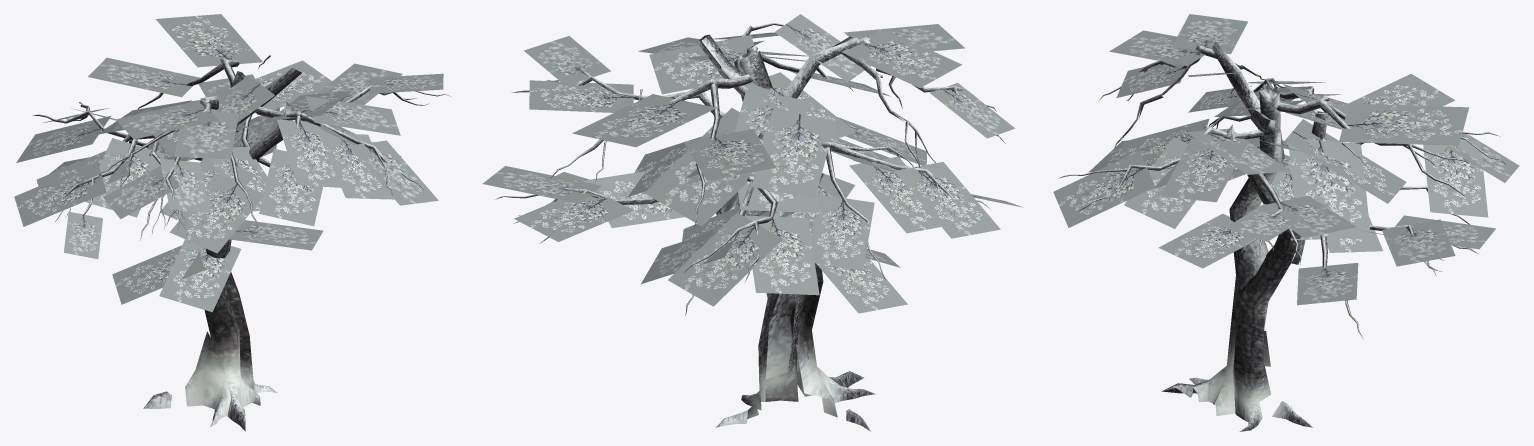
The model's file is S_Tree_White018_A.FBX.
The picture shows the model from 3 angles, left to right: view 1: azimuth 30°, elevation 25°; view 2: azimuth 150°, elevation 25°; view 3: azimuth 270°, elevation 25°; orthographic projection. The views are drawn at different scales.
Visible parts, largest first — view 1: S_Tree_White018_A; view 2: S_Tree_White018_A; view 3: S_Tree_White018_A.
Boxes of the visible parts, x1,y1,x2,y2 form: S_Tree_White018_A: [14, 14, 451, 431]; S_Tree_White018_A: [482, 14, 1022, 431]; S_Tree_White018_A: [1053, 14, 1519, 431].
Bounding box in the file's own units: 1311 × 975 × 1191.
